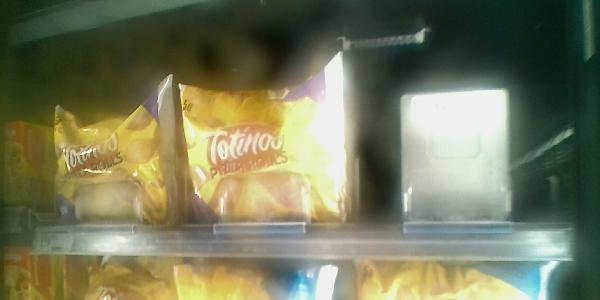icecream: (177, 68, 346, 220), (48, 86, 183, 225)
